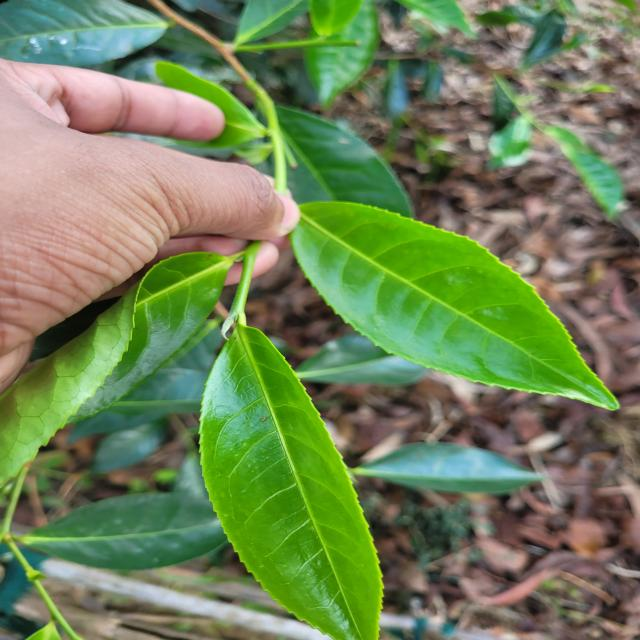Category D 7+ days, Not for Tea: (195, 291, 396, 640)
